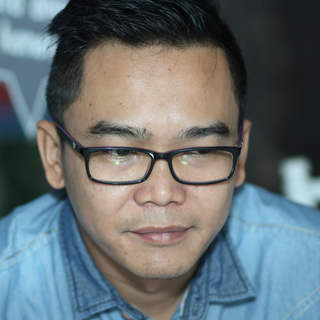eye: (181, 138, 223, 164), (96, 140, 140, 163)
